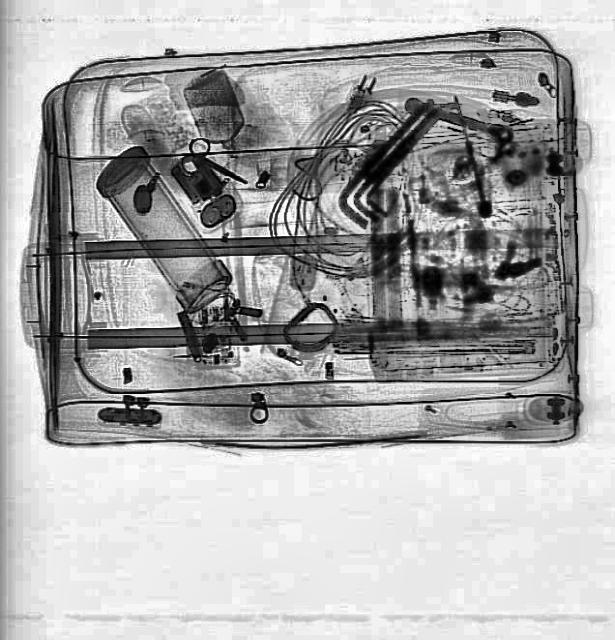Scissors: (173, 131, 258, 199)
